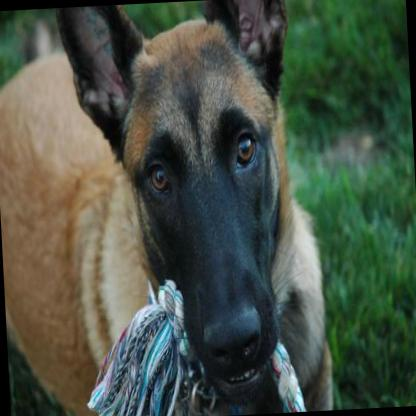malinois: (0, 0, 331, 416)
